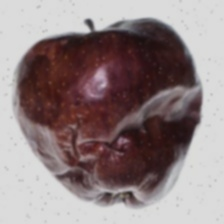apple: (44, 27, 194, 205)
